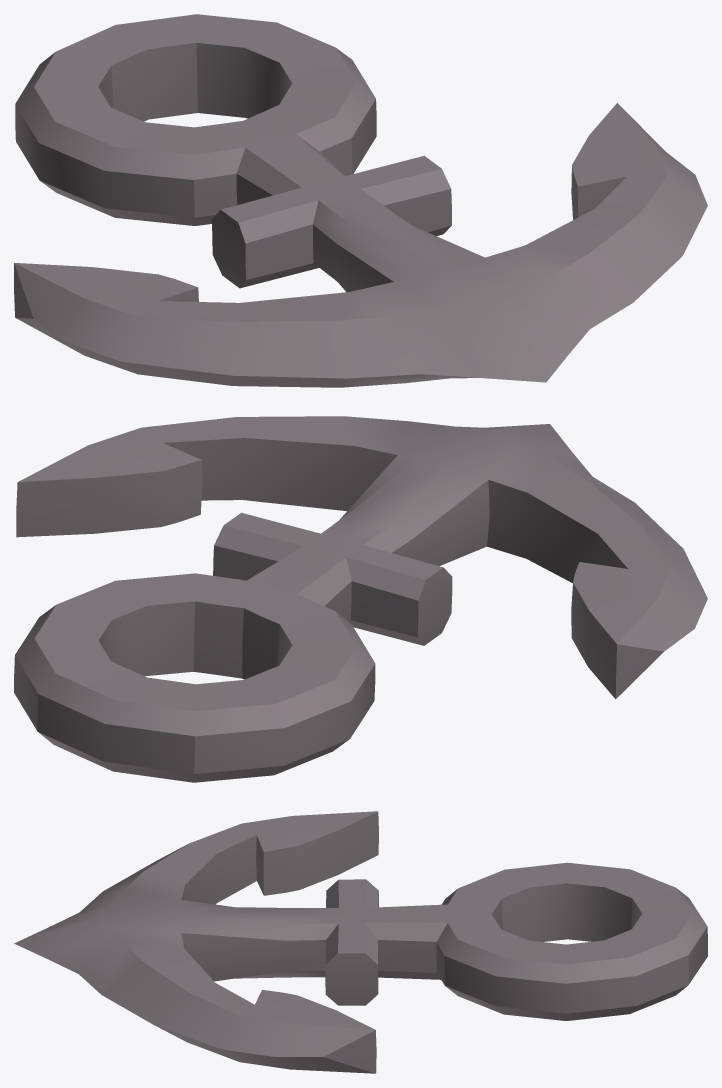
File: ancla.gltf
3 renders of one model, top to bottom at view 1: azimuth 30°, elevation 25°; view 2: azimuth 150°, elevation 25°; view 3: azimuth 270°, elevation 25°, orthographic. The views are drawn at different scales.
Parts seen in each view (by area): view 1: Prop_Anchor; view 2: Prop_Anchor; view 3: Prop_Anchor.
Part boxes in pixels (x1,y1,x2,y2): Prop_Anchor: (14, 14, 707, 387); Prop_Anchor: (14, 416, 707, 782); Prop_Anchor: (14, 811, 707, 1073).
Bounding box in the file's own units: 0.7807 × 0.0932 × 0.9507.
Materials: 1 (1 with a texture image).
